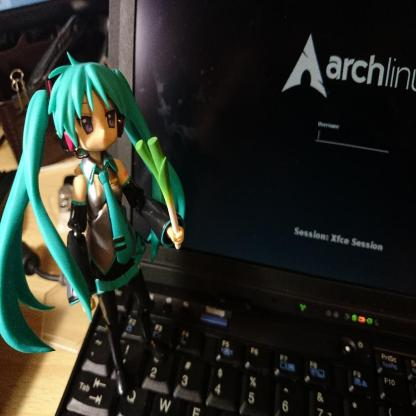board: (54, 0, 416, 415)
